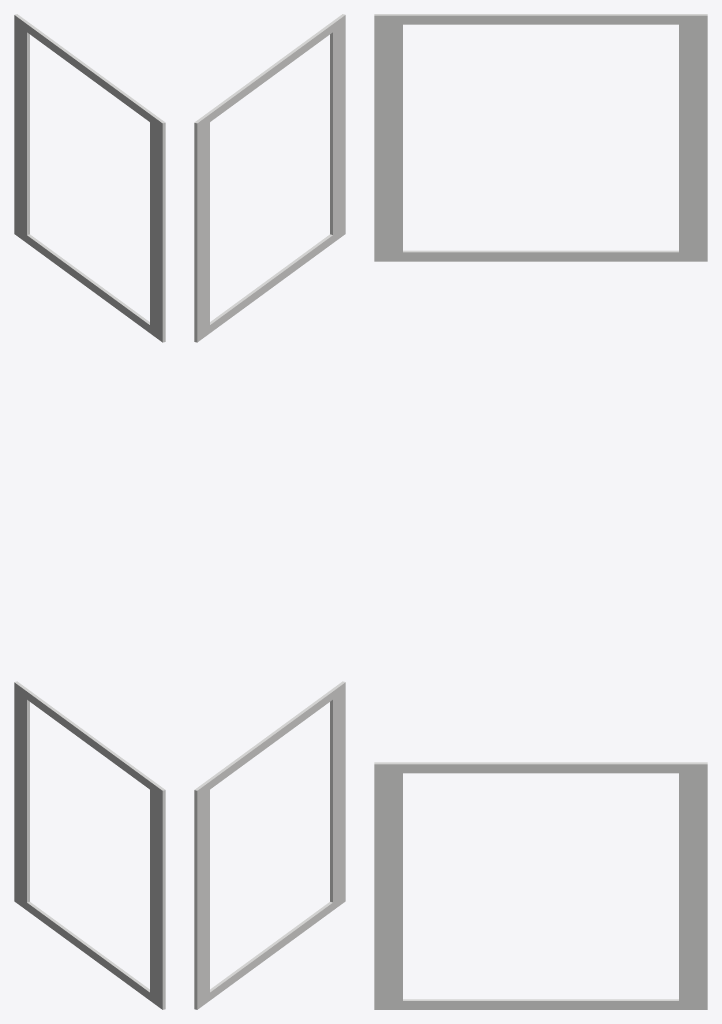
Rendered from VentanasMovibles_brillosos.fbx.
3 views of the same model, side by side, from view 1: azimuth 30°, elevation 25°; view 2: azimuth 150°, elevation 25°; view 3: azimuth 270°, elevation 25° (orthographic). The views are drawn at different scales.
Parts seen in each view (by area): view 1: MarcoVentanaD, MarcoVentanaD.001; view 2: MarcoVentanaD, MarcoVentanaD.001; view 3: MarcoVentanaD, MarcoVentanaD.001.
Boxes of the visible parts, left/top/right/bottom form: MarcoVentanaD: left=14, top=681, right=165, bottom=1009; MarcoVentanaD.001: left=14, top=14, right=165, bottom=342; MarcoVentanaD: left=194, top=681, right=345, bottom=1009; MarcoVentanaD.001: left=194, top=14, right=345, bottom=342; MarcoVentanaD: left=374, top=762, right=707, bottom=1009; MarcoVentanaD.001: left=374, top=14, right=707, bottom=261.
Bounding box in the file's own units: 1.5 × 403 × 122.
